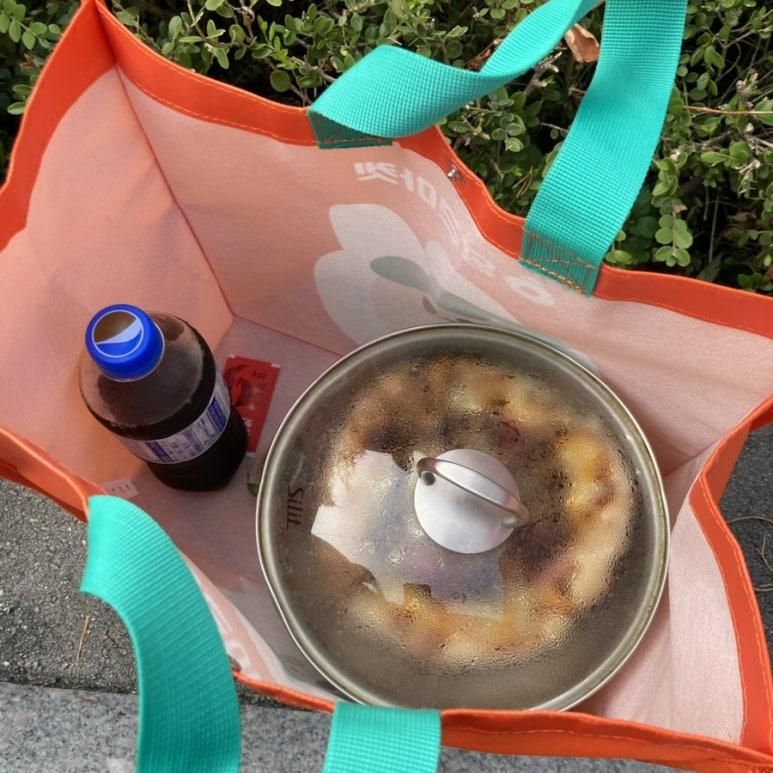Bottle: (80, 304, 247, 490)
Lunch Box: (257, 324, 667, 708)
